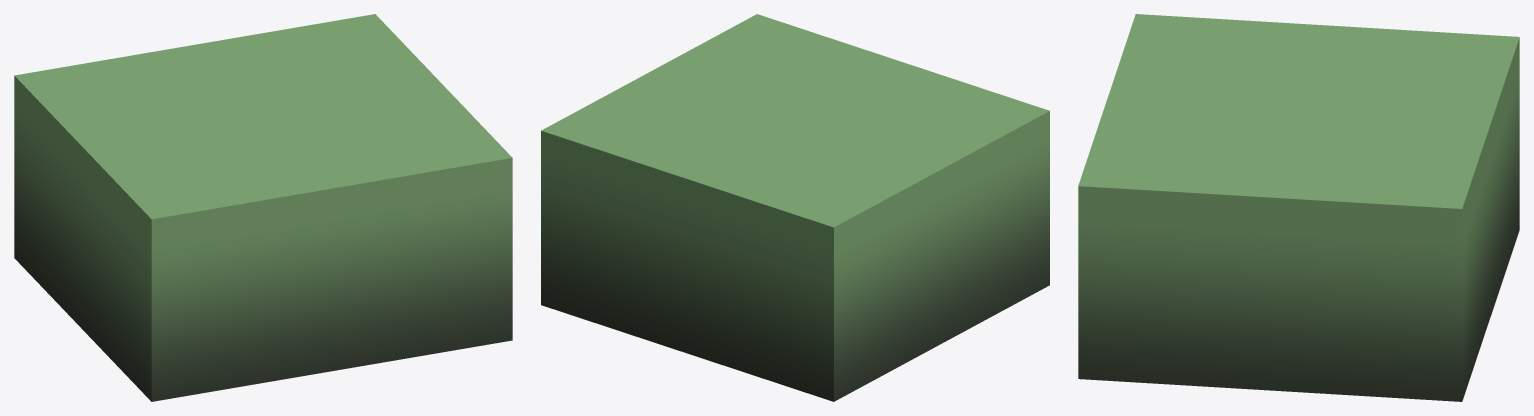
The model's file is Plat01.033.glb.
The picture shows the model from 3 angles, left to right: view 1: azimuth 30°, elevation 25°; view 2: azimuth 150°, elevation 25°; view 3: azimuth 270°, elevation 25°; orthographic projection. The views are drawn at different scales.
Visible parts, largest first — view 1: Plat01.033; view 2: Plat01.033; view 3: Plat01.033.
Part boxes in pixels (x1,y1,x2,y2): Plat01.033: [14, 14, 512, 401]; Plat01.033: [541, 14, 1049, 401]; Plat01.033: [1078, 14, 1519, 401].
Size of what is drawn, in the model's own units: 3.72 by 1.71 by 3.56.
1 material, 1 textured.
